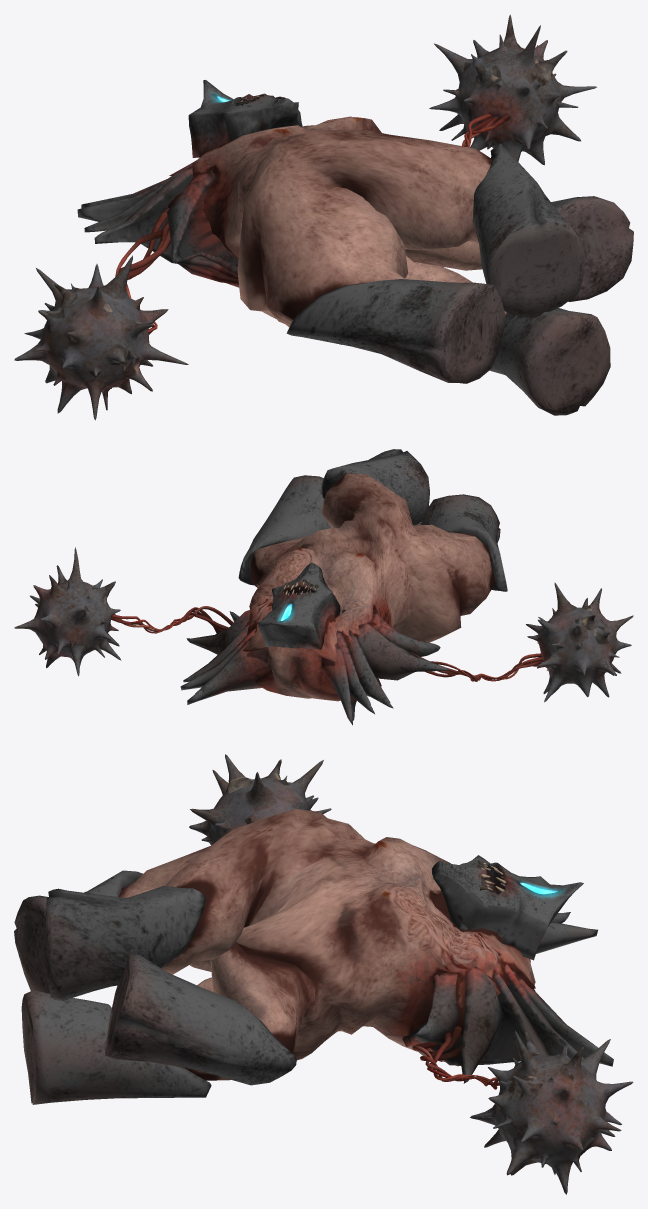
The model's file is FatGuyDead.fbx.
3 renders of one model, top to bottom at view 1: azimuth 30°, elevation 25°; view 2: azimuth 150°, elevation 25°; view 3: azimuth 270°, elevation 25°, orthographic. The views are drawn at different scales.
Parts seen in each view (by area): view 1: FatGuyDead; view 2: FatGuyDead; view 3: FatGuyDead.
Boxes of the visible parts, x1=… form: FatGuyDead: x1=14, y1=14, x2=633, y2=420; FatGuyDead: x1=14, y1=449, x2=633, y2=725; FatGuyDead: x1=14, y1=754, x2=633, y2=1194.
Bounding box in the file's own units: 6.16 × 1.87 × 4.61.
